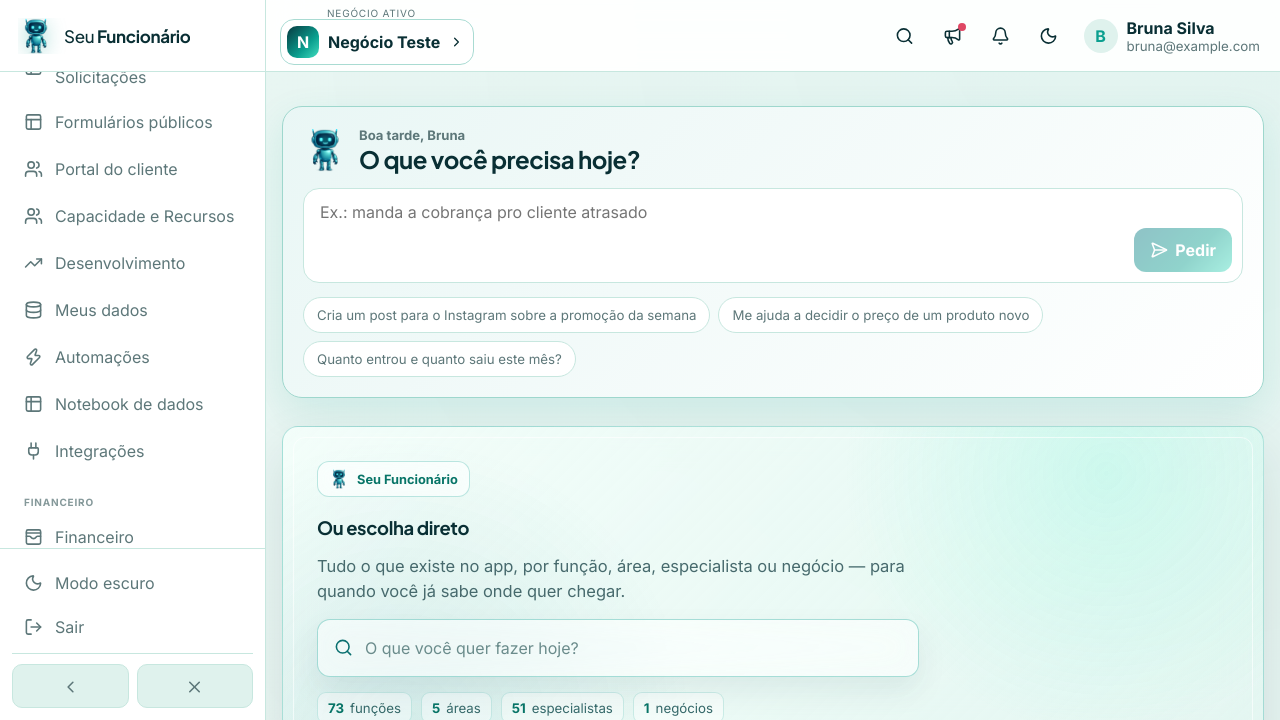
Scenario: Meus dados (banco de dados) › abre cada registro como página completa e mantém conteúdo e comentários
(page scrolled)
Click the button "Meus dados" at (132, 310), box [12,288,253,332]
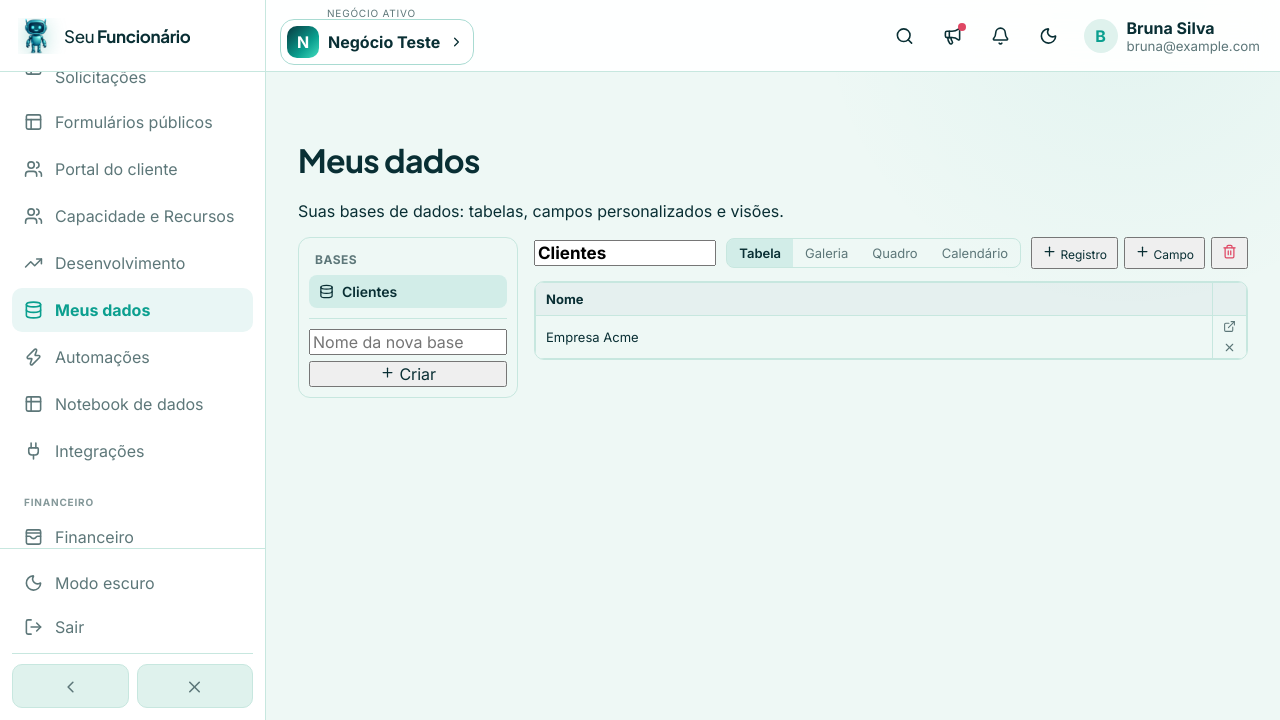
Click the button named "Abrir página do registro" at (1230, 327), box [1219,316,1240,337]
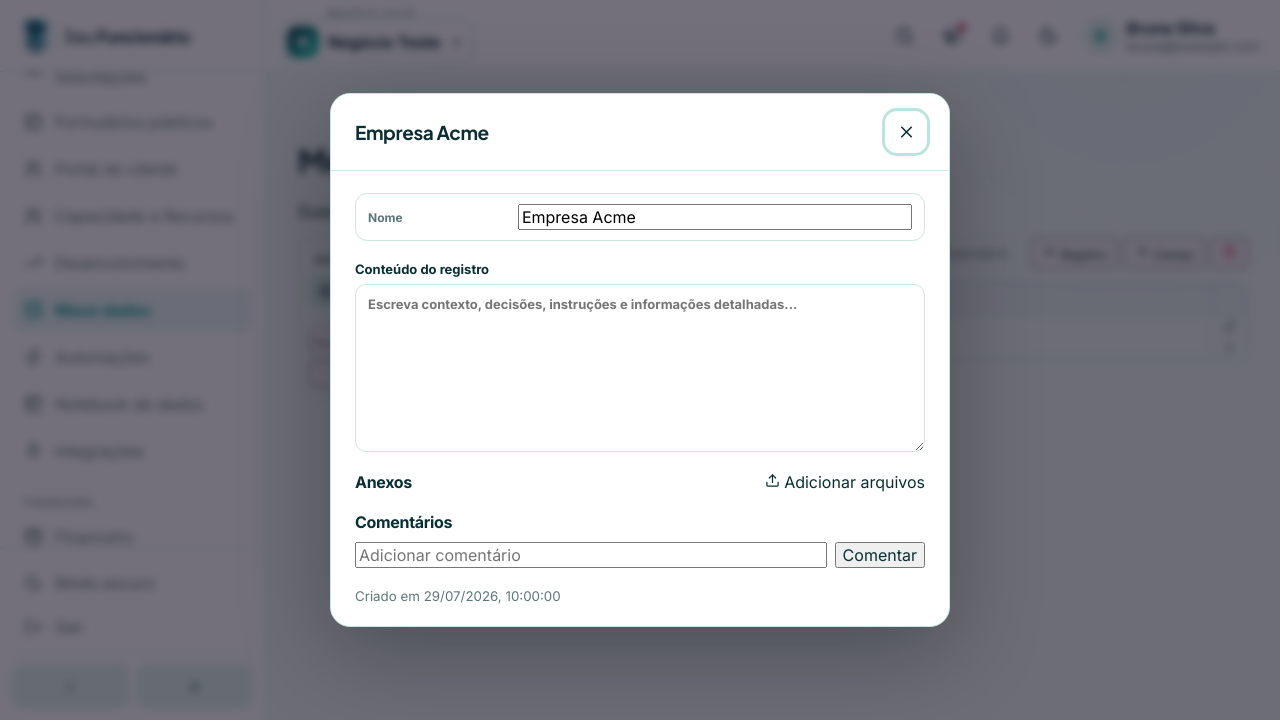
Expected: the heading "Empresa Acme" is shown, [355,120,489,144]
Replace the text in the text box with placeholder "Escreva contexto, decisões, instruções" with "Cliente estratégico com renovação em dezembro." at (640, 368), box [355,284,925,452]
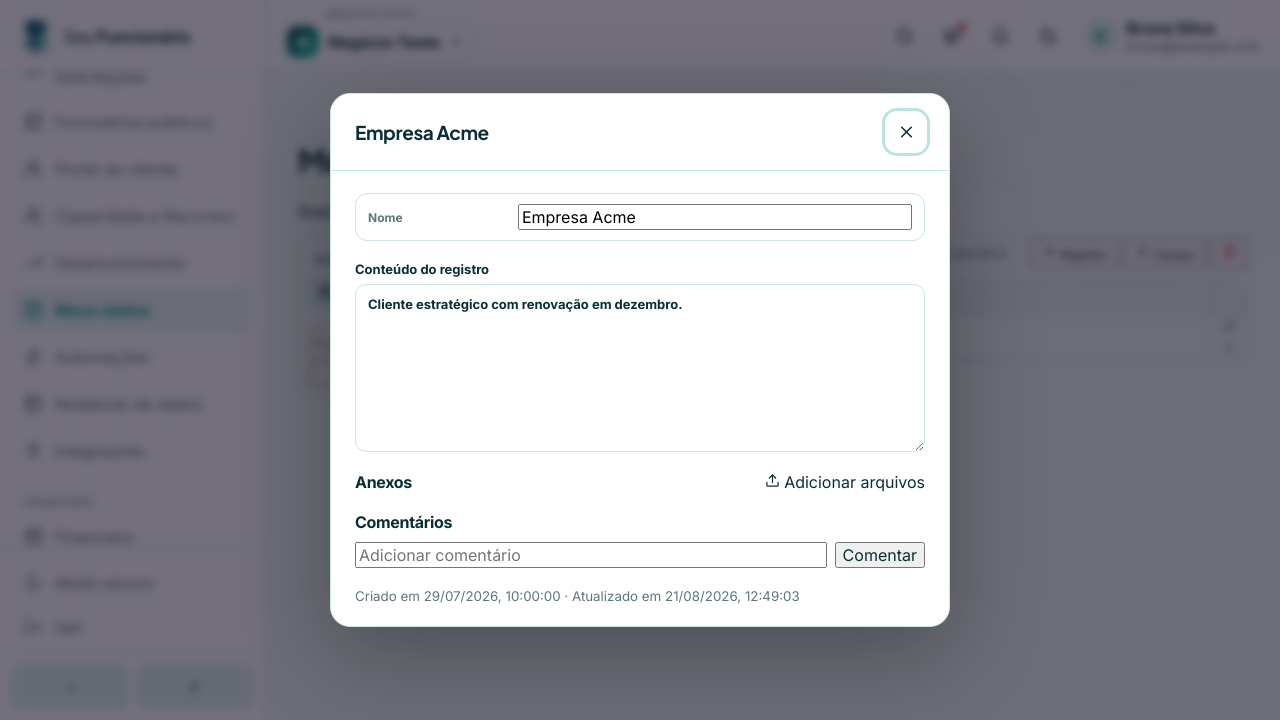
Type "Validar proposta com financeiro" into the field labelled "Adicionar comentário" at (591, 555), box [355,542,827,568]
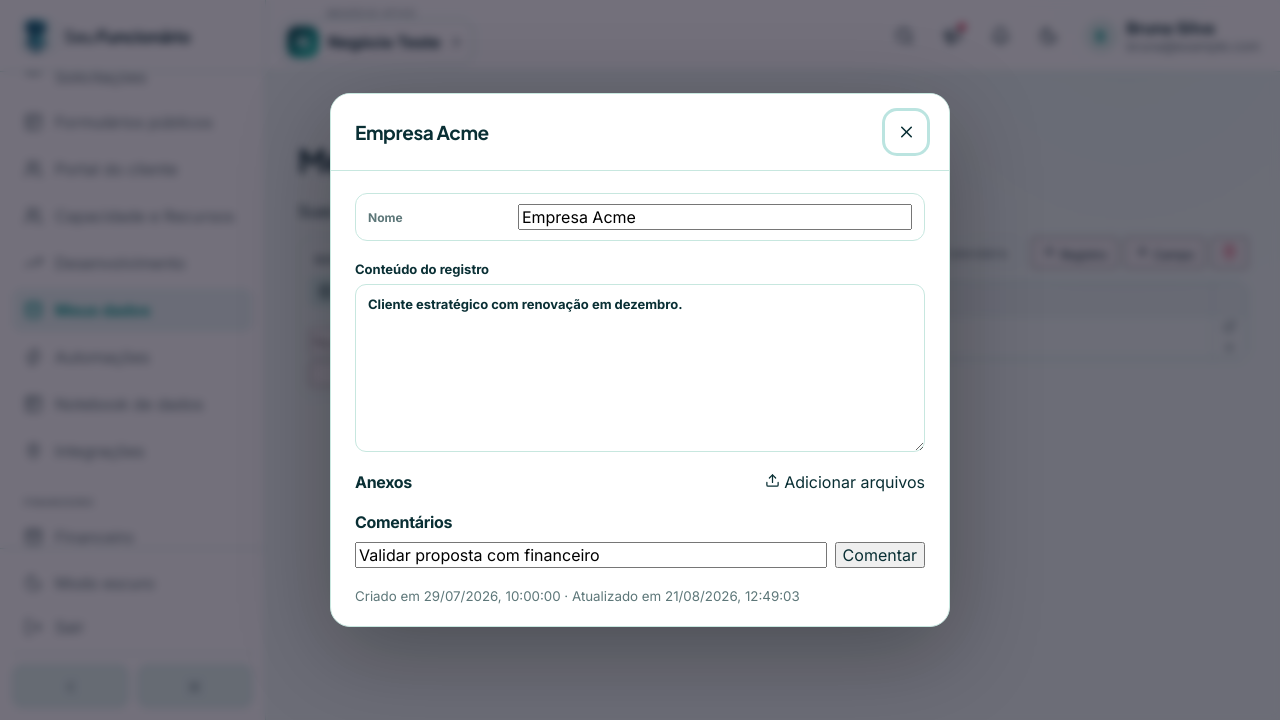
Click the button "Comentar" at (880, 555), box [835,542,925,568]
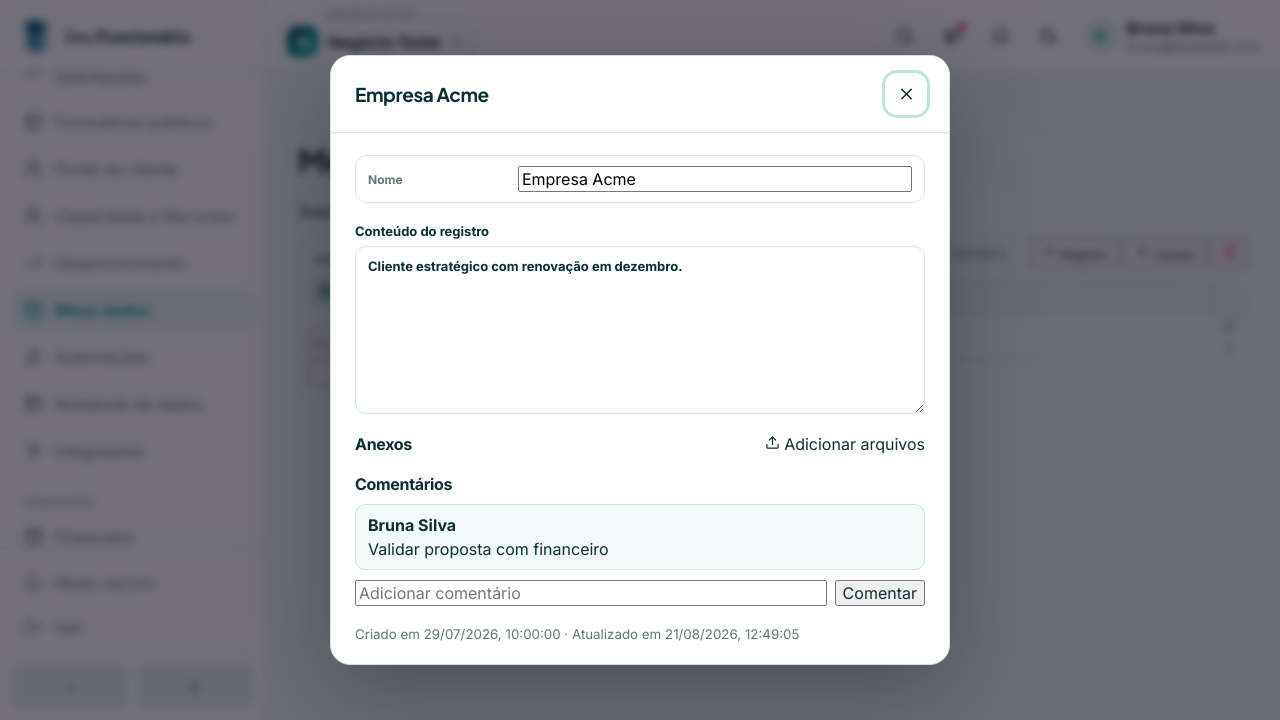
Expected: the text "Validar proposta com financeiro" is shown, [368,539,609,559]
